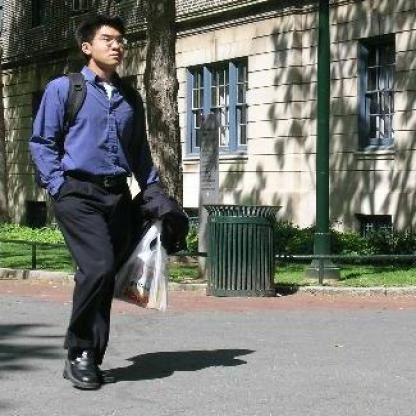person: (30, 16, 190, 395)
